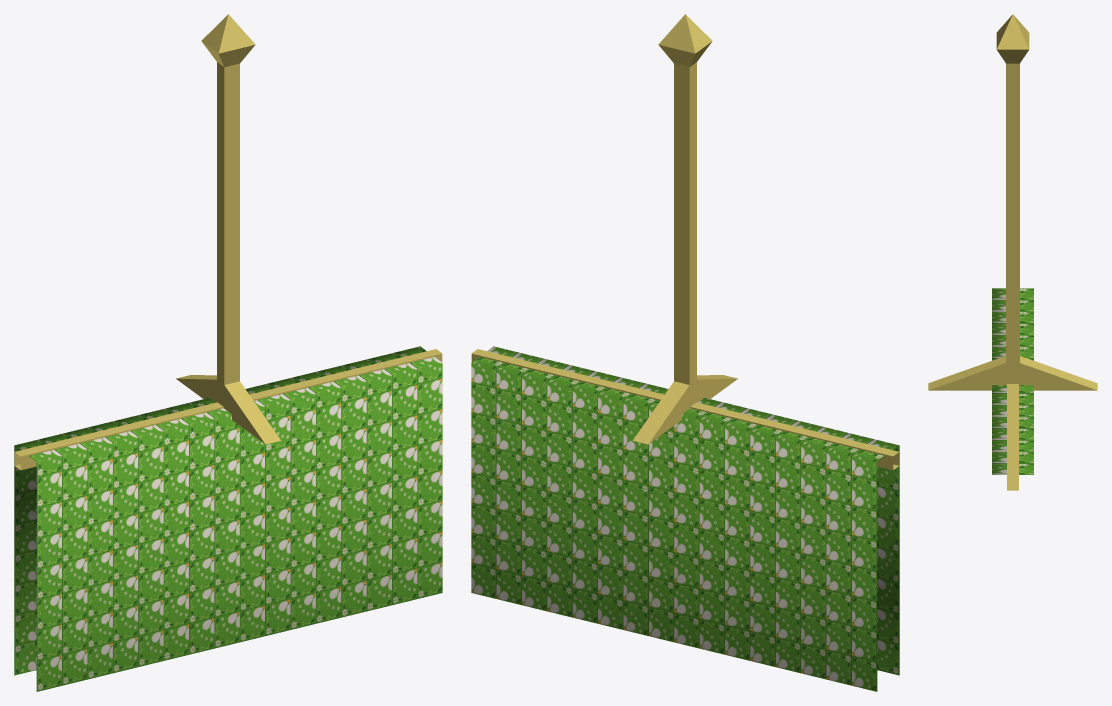
File: 4606floor_r.gltf
3 views of the same model, side by side, from view 1: azimuth 30°, elevation 25°; view 2: azimuth 150°, elevation 25°; view 3: azimuth 270°, elevation 25° (orthographic). The views are drawn at different scales.
Parts seen in each view (by area): view 1: 4606floor_r; view 2: 4606floor_r; view 3: 4606floor_r.
Part boxes in pixels (x1=…): 4606floor_r: x1=14, y1=14, x2=442, y2=691; 4606floor_r: x1=471, y1=14, x2=899, y2=691; 4606floor_r: x1=928, y1=14, x2=1097, y2=490.
Bounding box in the file's own units: 1.59 × 2.23 × 0.5869.
Materials: 2 (1 with a texture image).
